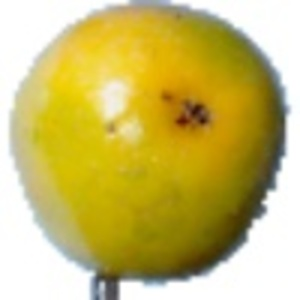maracujá: (1, 1, 294, 300)
